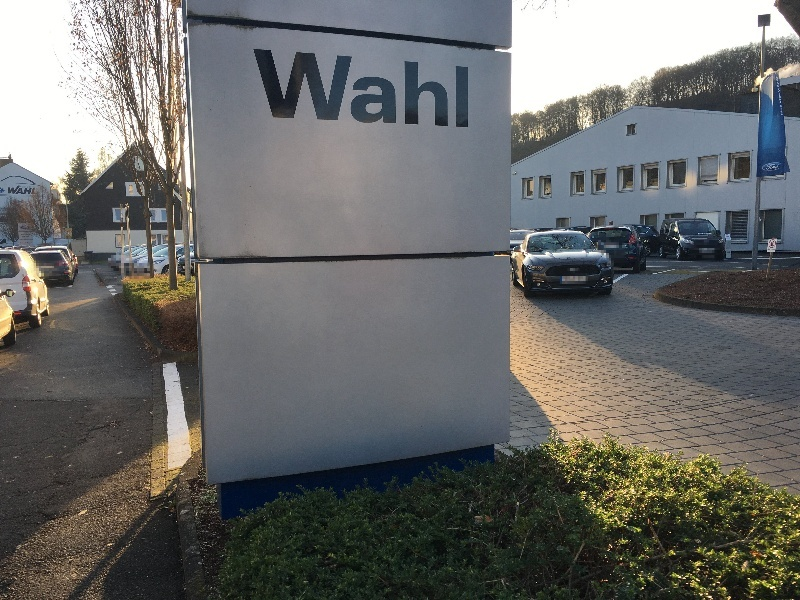text: (257, 49, 272, 129), (273, 49, 288, 129), (289, 49, 304, 129), (305, 49, 320, 129), (321, 49, 336, 129), (337, 49, 352, 129), (353, 49, 368, 129), (369, 49, 384, 129), (385, 49, 400, 129), (401, 49, 416, 129), (417, 49, 432, 129), (433, 49, 448, 129), (449, 49, 464, 129), (465, 49, 469, 129), (253, 49, 256, 129), (778, 76, 784, 116), (17, 183, 32, 195), (8, 183, 16, 195), (769, 164, 780, 171), (33, 183, 37, 195), (21, 186, 32, 188), (27, 186, 32, 188), (26, 187, 32, 188), (705, 234, 710, 235), (33, 186, 35, 188)
